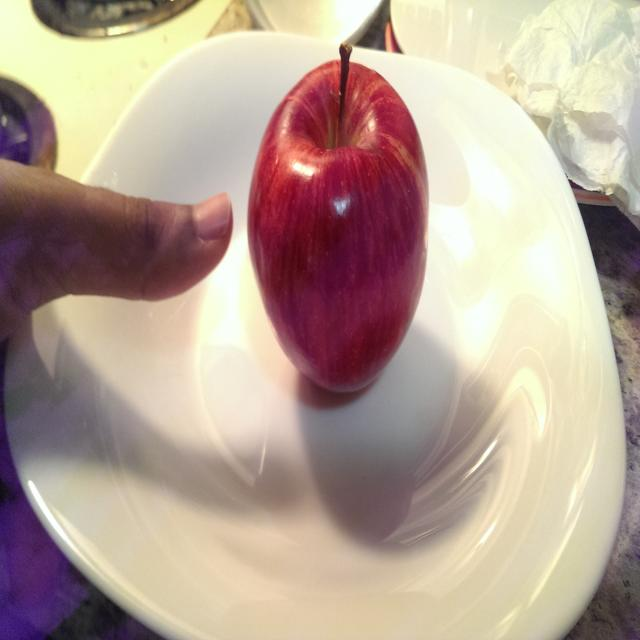apple: (244, 35, 437, 399)
